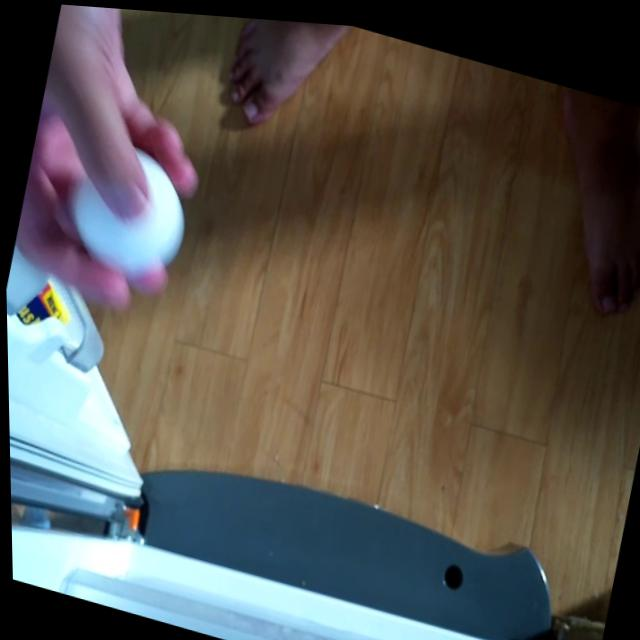egg: (58, 122, 205, 286)
